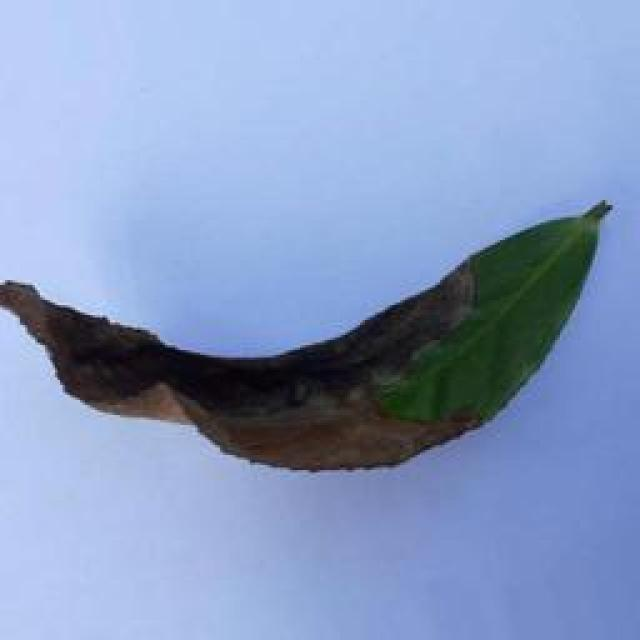Brown Blight: (0, 185, 622, 487)
